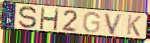2: (62, 9, 79, 33)
G: (82, 12, 102, 34)
H: (38, 7, 60, 32)
K: (126, 14, 143, 38)
S: (18, 5, 39, 30)
V: (103, 12, 124, 36)
